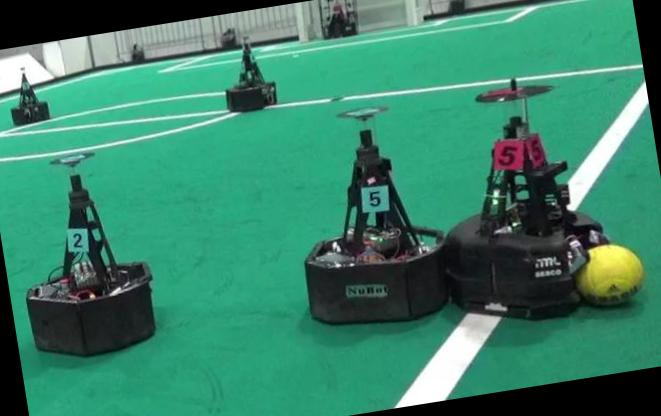ball: (575, 244, 643, 304)
goal: (295, 2, 308, 41), (404, 0, 419, 25)
robot: (443, 78, 607, 319), (304, 106, 448, 324), (26, 154, 154, 355), (225, 42, 276, 111), (11, 72, 48, 125), (318, 0, 357, 38)
